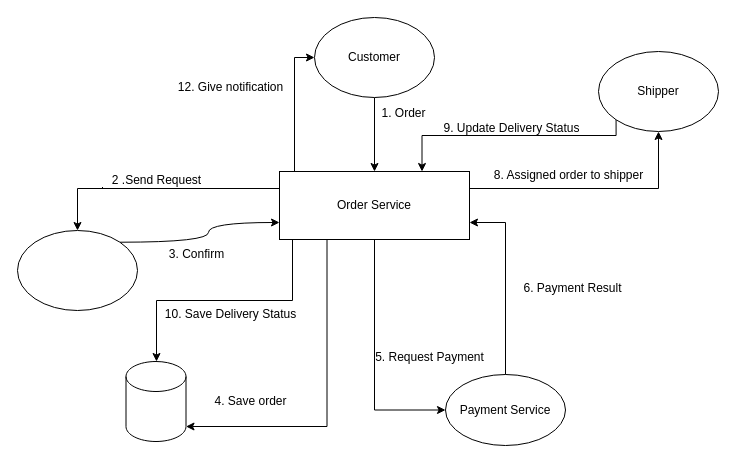
Some shapes in this 736 by 463 pixel diagram are drawn without their labels. The centre of each missing label's shape, as x and y in pixels:
Database: (155,401)
Restaurant: (77,270)
